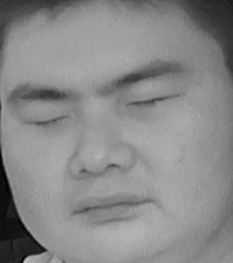blink: (23, 103, 75, 139), (128, 84, 182, 116)
mouth: (65, 182, 155, 229)
